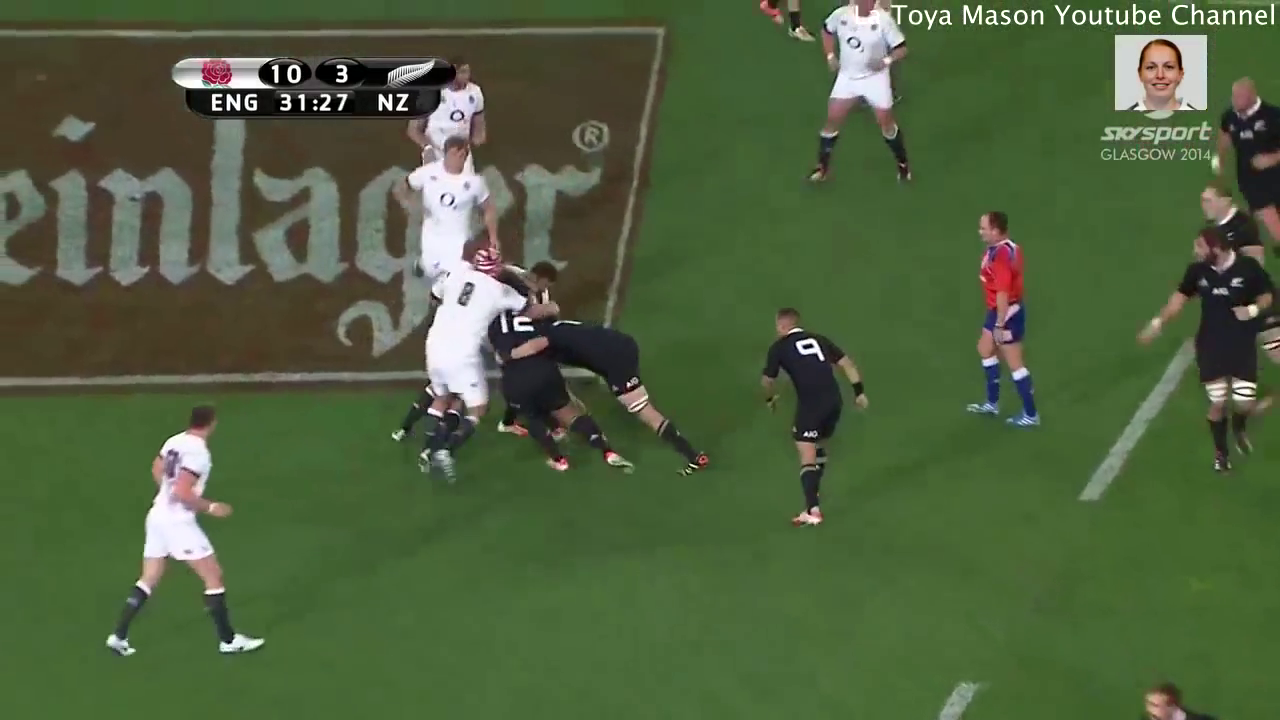player: (91, 392, 290, 676), (495, 305, 717, 491), (1120, 228, 1280, 485), (388, 236, 527, 499), (748, 300, 880, 536), (478, 320, 642, 486), (789, 1, 921, 196), (957, 206, 1057, 438), (392, 123, 506, 316), (1185, 71, 1280, 255), (397, 45, 496, 177), (1167, 172, 1280, 281), (1126, 684, 1232, 720)
